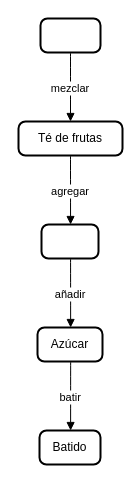
The diagram is 140 pixels wide and 482 high, and some of its shapes have lost their labels. Each missing label, with the centre of its shape:
"Fresas" belongs at (70,35).
"Leche" belongs at (69,241).
